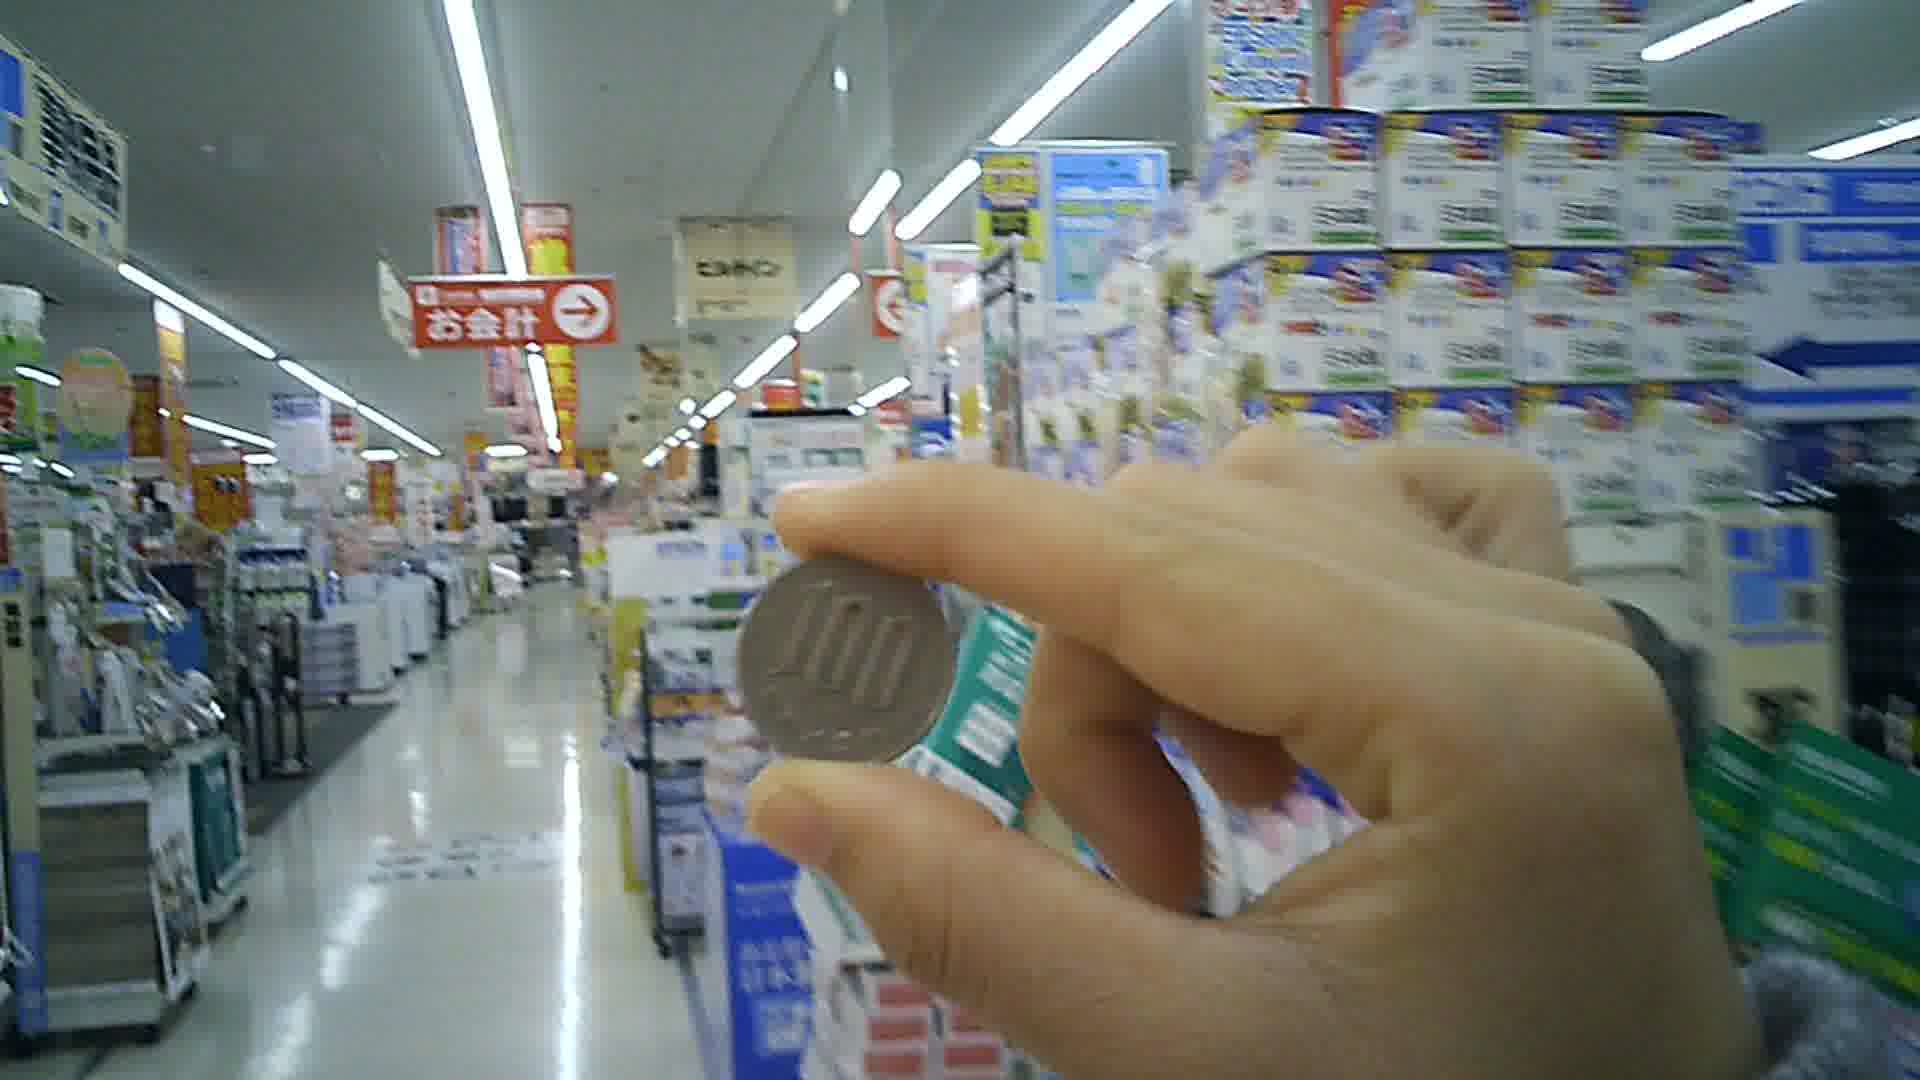100 Yen: (723, 545, 978, 766)
